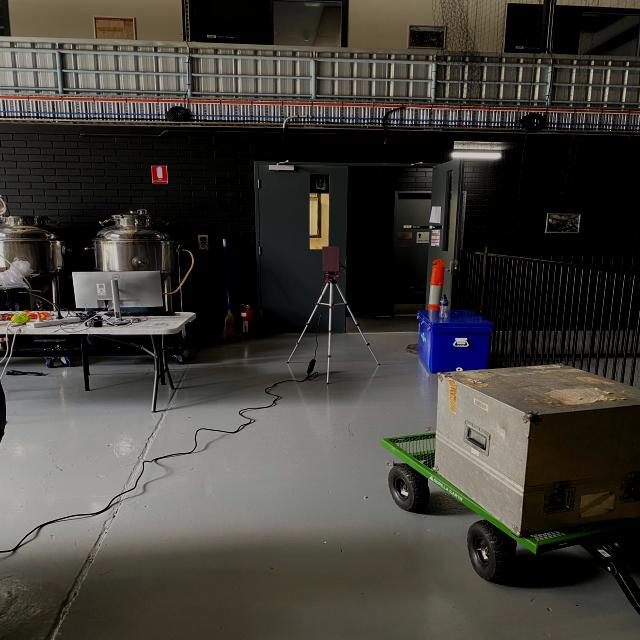matrix: (319, 243, 343, 275)
